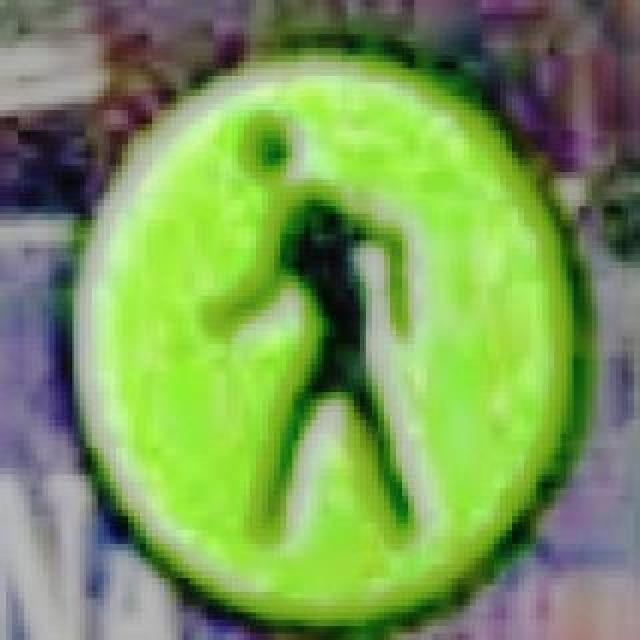pedestrian crossing: (56, 28, 580, 632)
